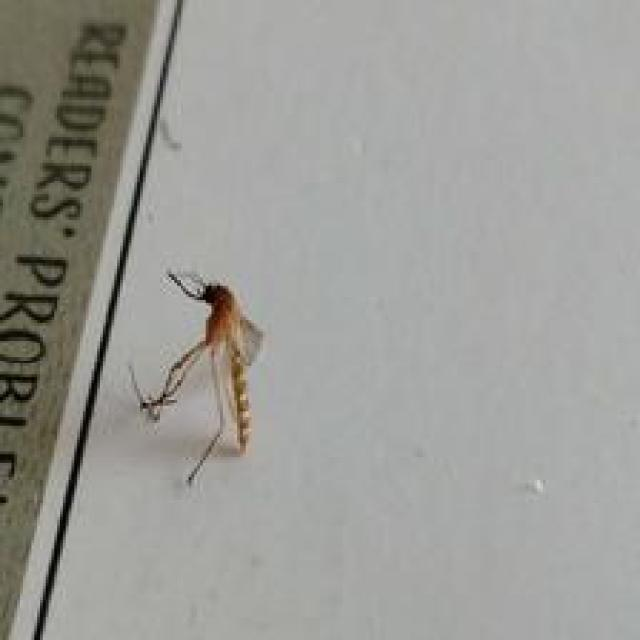Culex: (130, 268, 264, 486)
